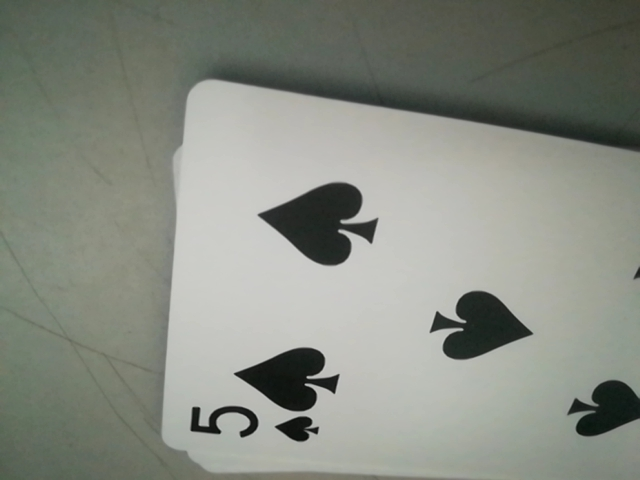ht 5: (182, 401, 333, 457)
